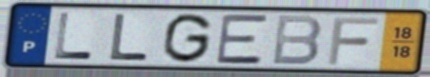B: (269, 13, 324, 67)
E: (214, 13, 270, 66)
F: (324, 15, 380, 67)
G: (160, 12, 215, 65)
L: (108, 12, 152, 62), (53, 11, 96, 61)
